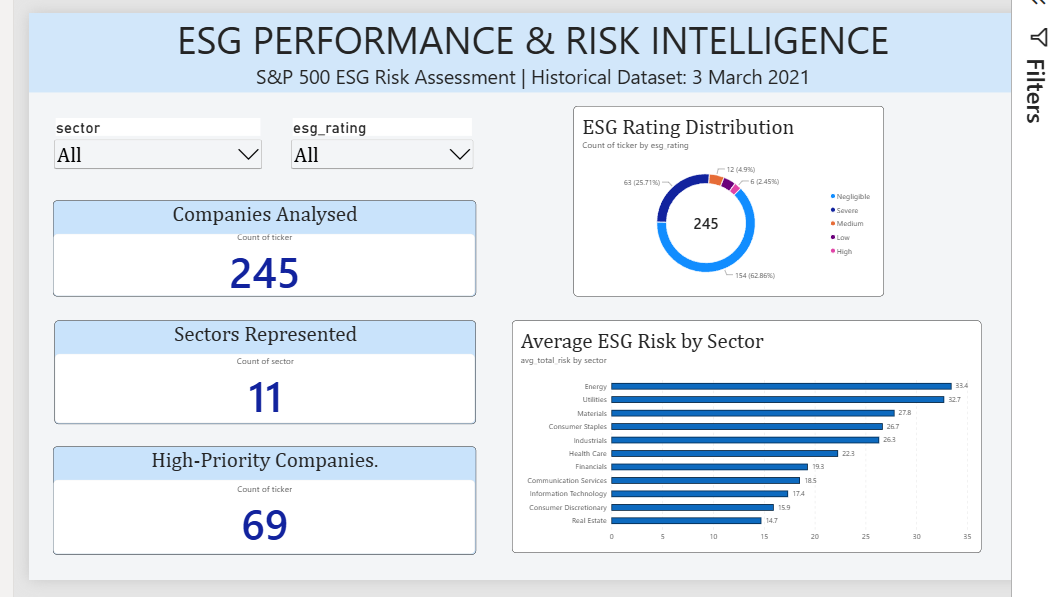

Layout of this report page (visuals, bound fields, positions):
{"tool":"powerbi","page":{"name":"Executive Overview","canvas":[1920,1080],"ordinal":0},"visuals":[{"type":"cardVisual","title":"Companies Analysed","fields":{"Data":["Count(esg_company_data.ticker)"]},"box":[45.7,357.1,805.7,182.9],"z":0},{"type":"cardVisual","title":"Sectors Represented","fields":{"Data":["Count(esg_company_data.sector)"]},"box":[48.6,585.7,802.9,197.1],"z":1000},{"type":"clusteredBarChart","title":"Average ESG Risk by Sector","fields":{"Category":["sector_esg_risk.sector"],"Y":["Sum(sector_esg_risk.avg_total_risk)"]},"box":[920,585.7,894.3,442.9],"z":2000},{"type":"cardVisual","title":"High-Priority Companies.","fields":{"Data":["Count(esg_company_data.ticker)"]},"box":[45.7,825.7,805.7,205.7],"z":3000},{"type":"donutChart","title":"ESG Rating Distribution","fields":{"Category":["esg_company_data.esg_rating"],"Y":["CountNonNull(esg_company_data.ticker)"]},"box":[1037.1,177.1,591.4,362.9],"z":4000},{"type":"slicer","fields":{"Values":["esg_company_data.sector"]},"box":[42.9,200,405.7,97.1],"z":5000},{"type":"slicer","fields":{"Values":["esg_company_data.esg_rating"]},"box":[494.3,200,357.1,97.1],"z":6000},{"type":"textbox","box":[0,0,1920,151.4],"z":7000}]}

Visuals, with their boxes on the page's 1920x1080 design canvas (x1, y1, x2, y2). These are canvas units, not pixel positions in the 1057x597 screenshot, which may show the page scaled, cropped or inside an application window:
"Companies Analysed" cardVisual: <region>46, 357, 851, 540</region>
"Sectors Represented" cardVisual: <region>49, 586, 852, 783</region>
"Average ESG Risk by Sector" clusteredBarChart: <region>920, 586, 1814, 1029</region>
"High-Priority Companies." cardVisual: <region>46, 826, 851, 1031</region>
"ESG Rating Distribution" donutChart: <region>1037, 177, 1628, 540</region>
slicer - esg_company_data.sector: <region>43, 200, 449, 297</region>
slicer - esg_company_data.esg_rating: <region>494, 200, 851, 297</region>
textbox: <region>0, 0, 1920, 151</region>
